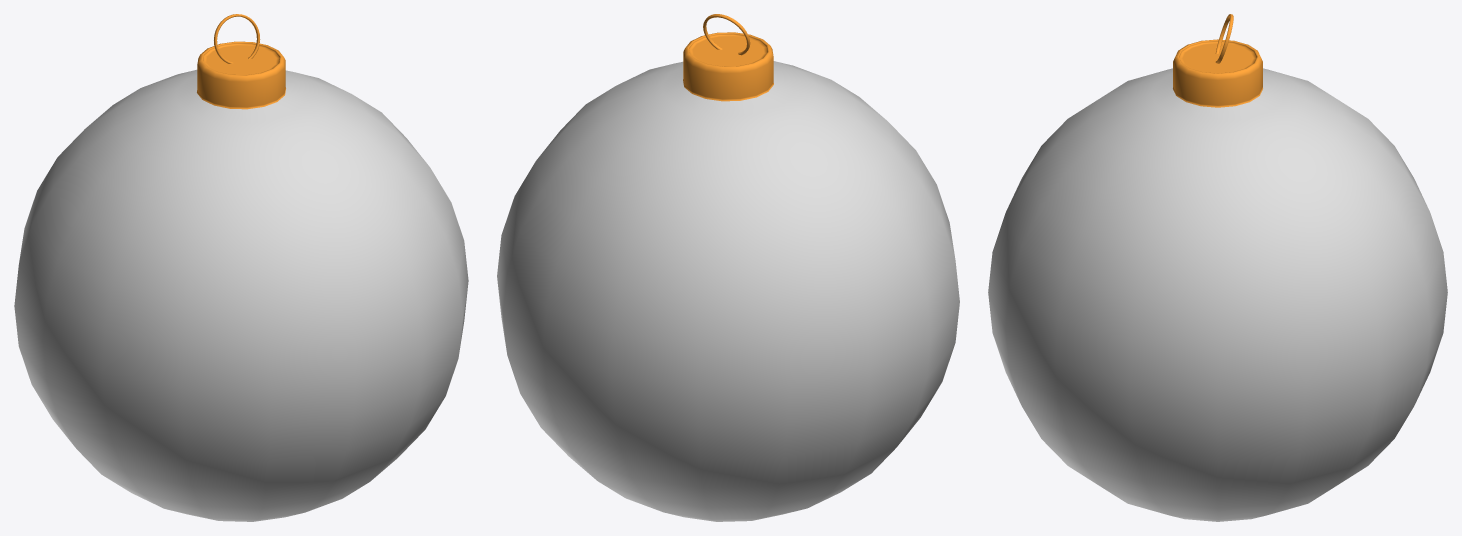
File: ball.glb
3 renders of one model, left to right at view 1: azimuth 30°, elevation 25°; view 2: azimuth 150°, elevation 25°; view 3: azimuth 270°, elevation 25°, orthographic.
Visible parts, largest first — view 1: Ball, Tip; view 2: Ball, Tip; view 3: Ball, Tip.
Part boxes in pixels (bbox=[...]): Ball: bbox=[14, 69, 468, 521]; Tip: bbox=[197, 41, 285, 109]; Ball: bbox=[497, 61, 959, 521]; Tip: bbox=[683, 32, 773, 101]; Ball: bbox=[988, 68, 1447, 521]; Tip: bbox=[1173, 39, 1262, 107].
Size of the model in its own units: 3.23 by 3.75 by 3.23.
